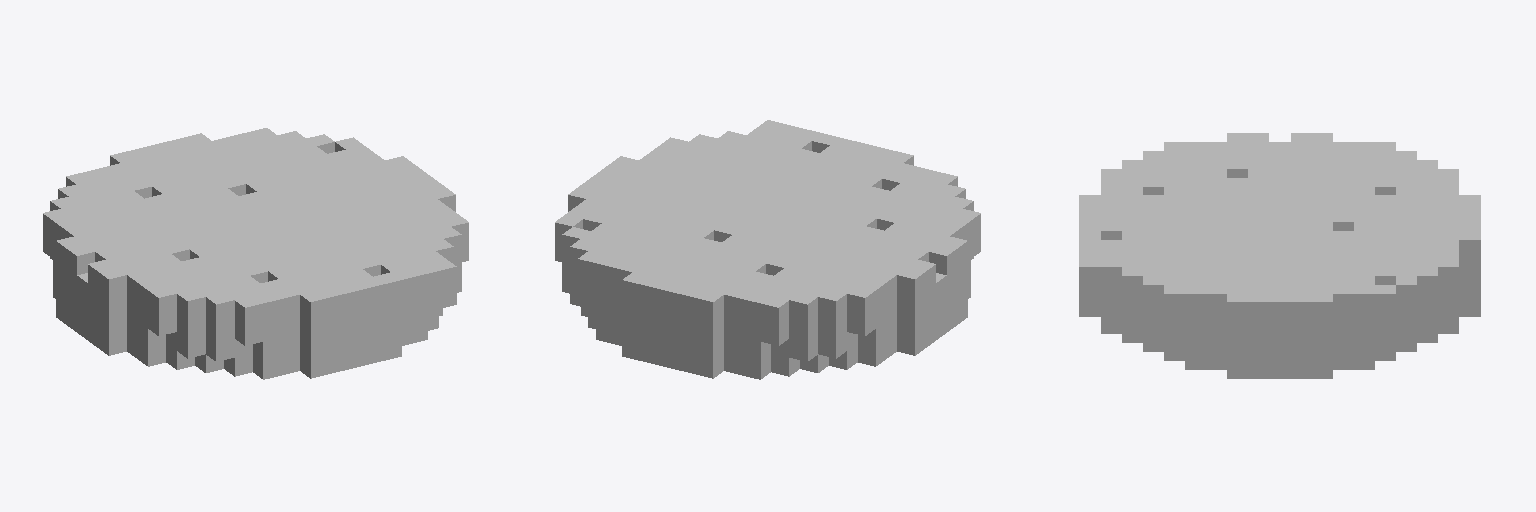
The model's file is frozenpatty.obj.
The picture shows the model from 3 angles: view 1: azimuth 30°, elevation 25°; view 2: azimuth 150°, elevation 25°; view 3: azimuth 270°, elevation 25°; orthographic projection.
Visible parts, largest first — view 1: object 1; view 2: object 1; view 3: object 1.
Boxes of the visible parts, x1,y1,x2,y2 form: object 1: [43, 128, 468, 379]; object 1: [555, 120, 980, 379]; object 1: [1079, 133, 1480, 378].
Bounding box in the file's own units: 1.9 × 0.4 × 1.9.